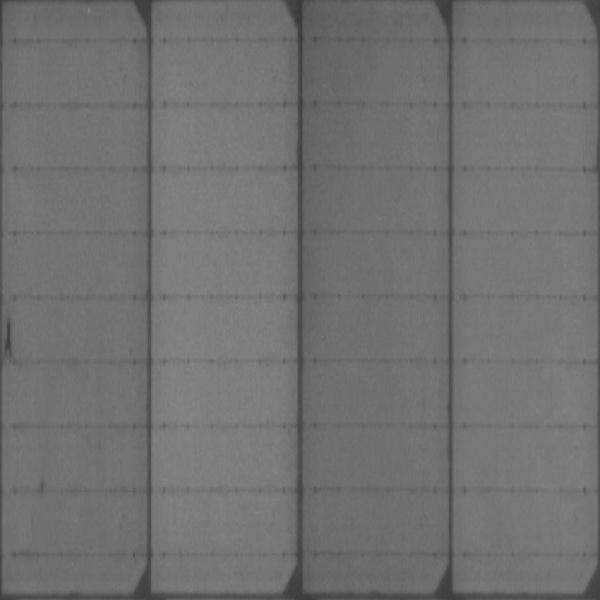scratch: (2, 319, 18, 362)
